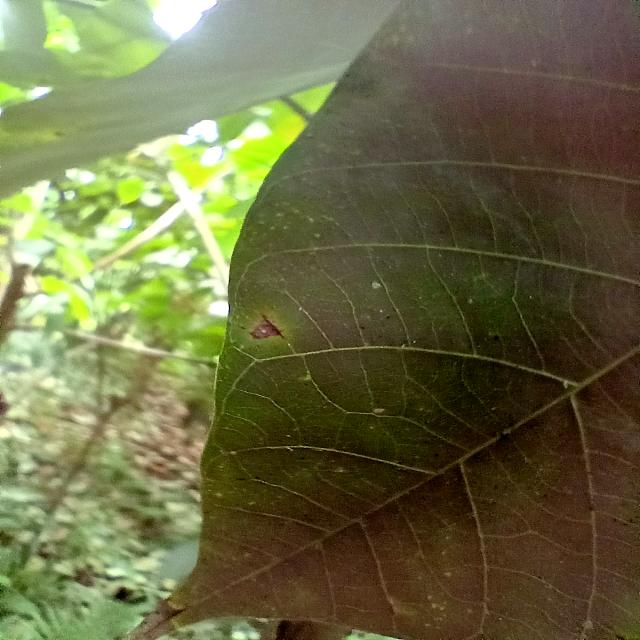Corynespora: (249, 314, 285, 340)
